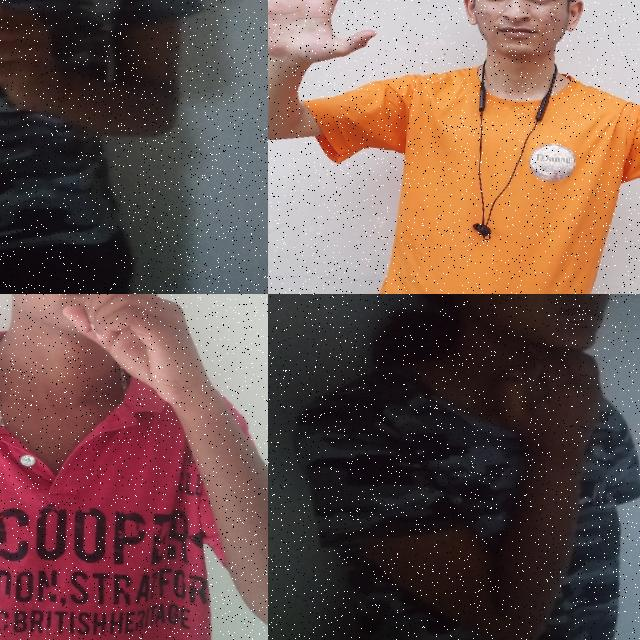Chin Flick: (395, 294, 640, 478)
Dulya: (0, 0, 76, 132)
Fist Mouth: (0, 294, 252, 424)
Moutza: (268, 0, 387, 78)
